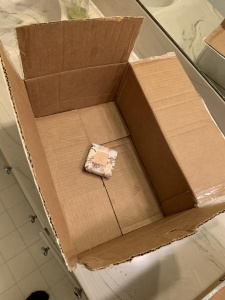innerbox: (40, 81, 173, 227)
outerbox: (1, 23, 225, 271)
product: (83, 143, 118, 179)
